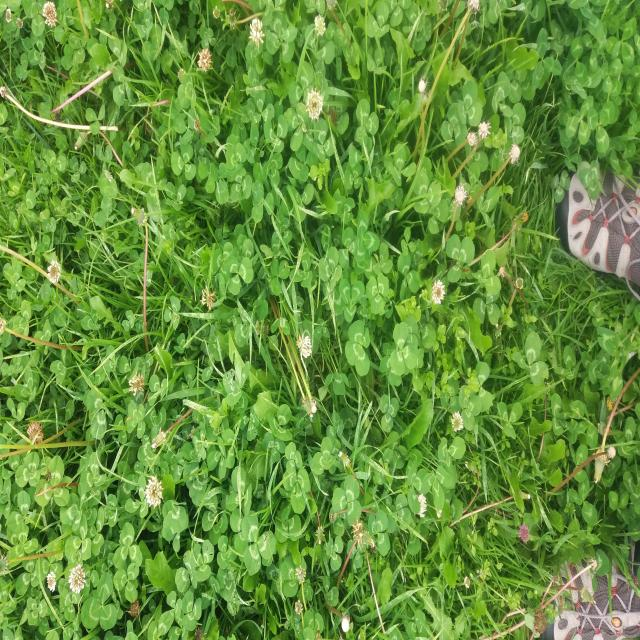Four Leaf Clover: (345, 320, 370, 377)
